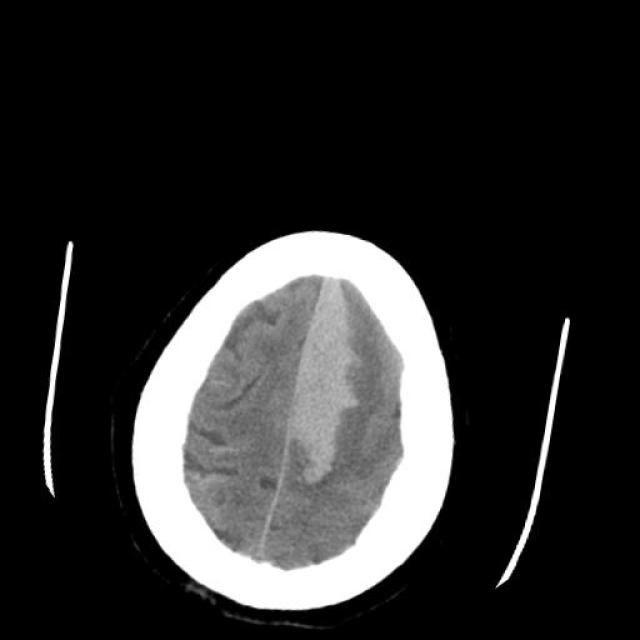Subdural: (260, 252, 396, 493)
